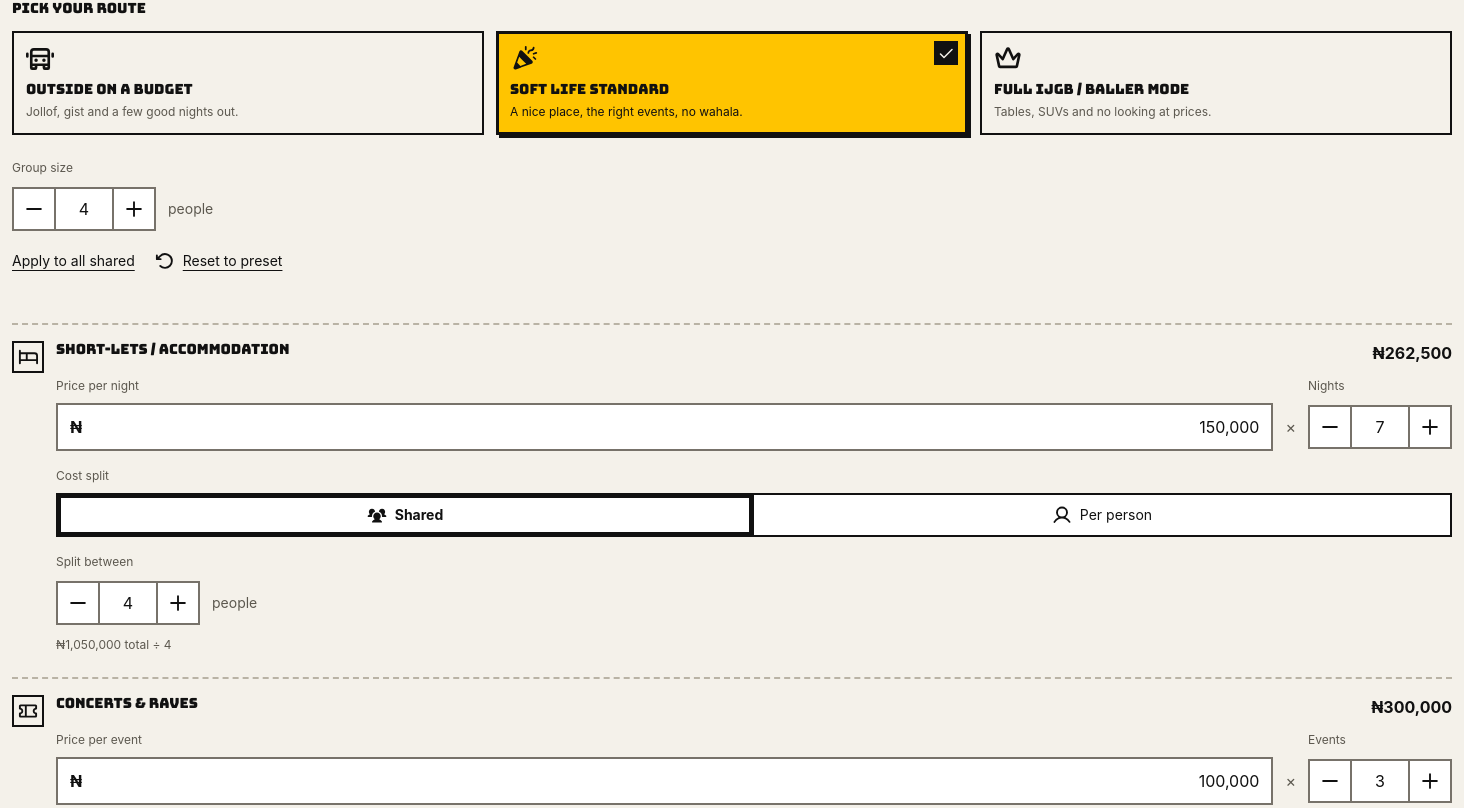
it: group size › scales the group total and leaves the per-person total and the splits alone
Click the button named "Increase Group size" below "Group size" at (134, 208), box [112,186,156,230]
(page scrolled)
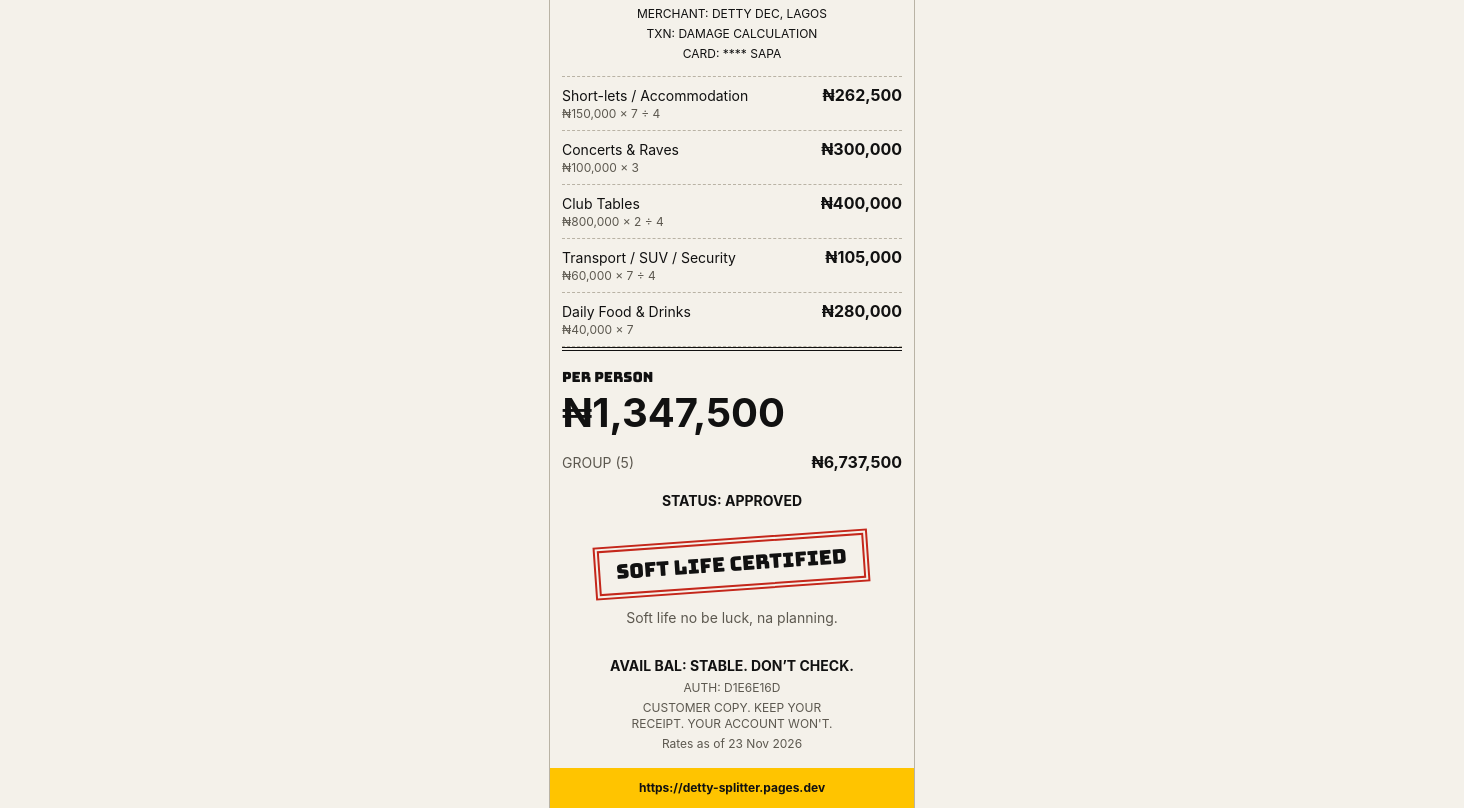
Expected: the text "₦1,347,500" is shown, [562,388,785,436]
Now the text "GROUP (5)" is shown, box [562,452,634,472]
Now the text "₦6,737,500" is shown, box [812,450,902,474]
